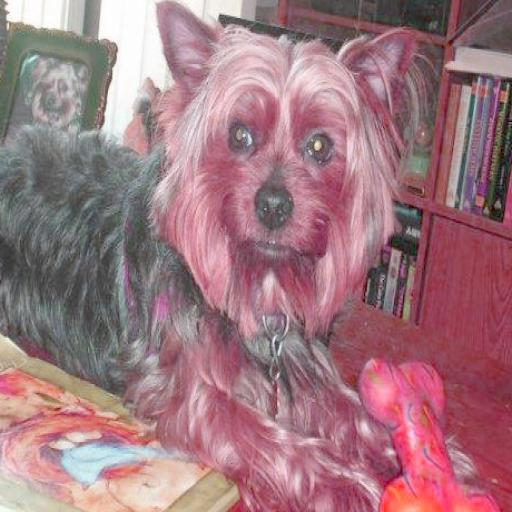dog_face: (155, 11, 407, 284)
